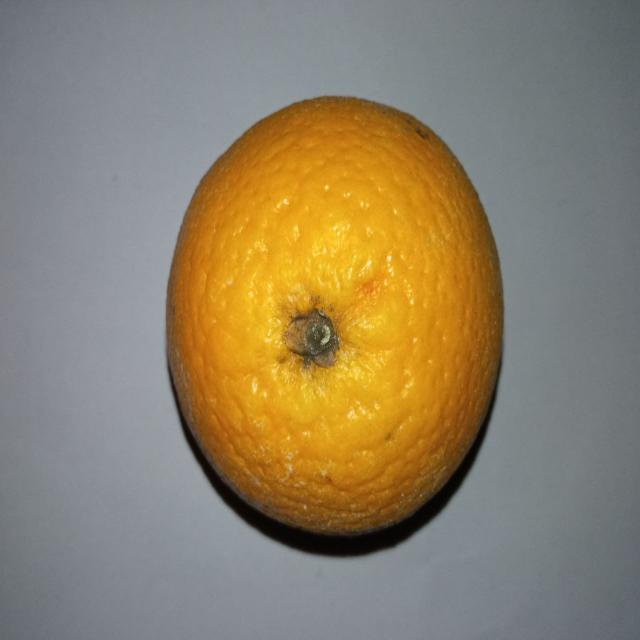fresh_orange: (164, 94, 500, 539)
